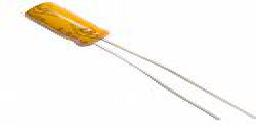Electrolytic-Capacitor: (26, 1, 256, 126)
